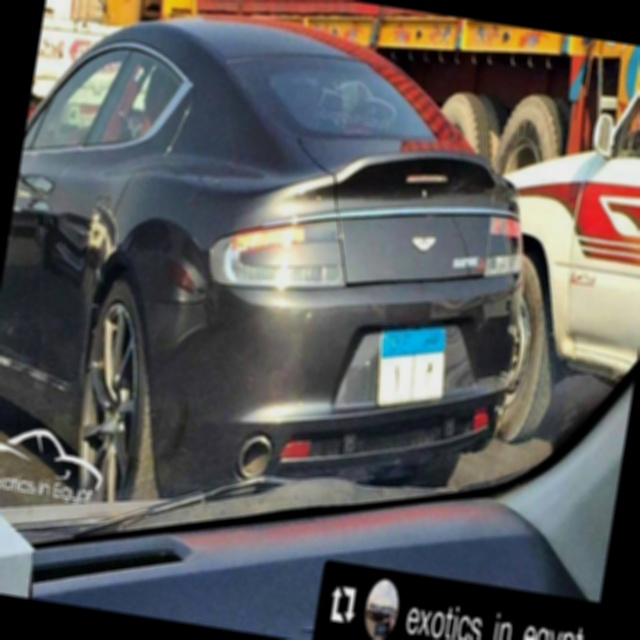License Plate: (368, 313, 456, 423)
